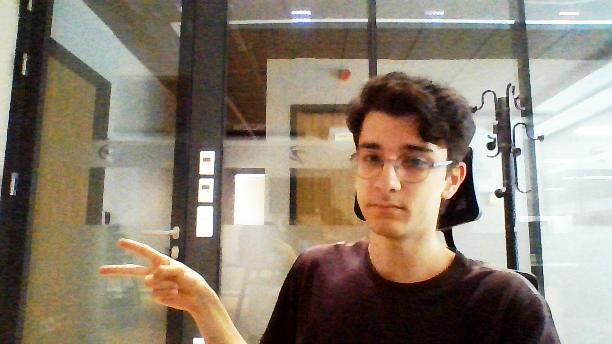Scissors: (97, 236, 205, 316)
